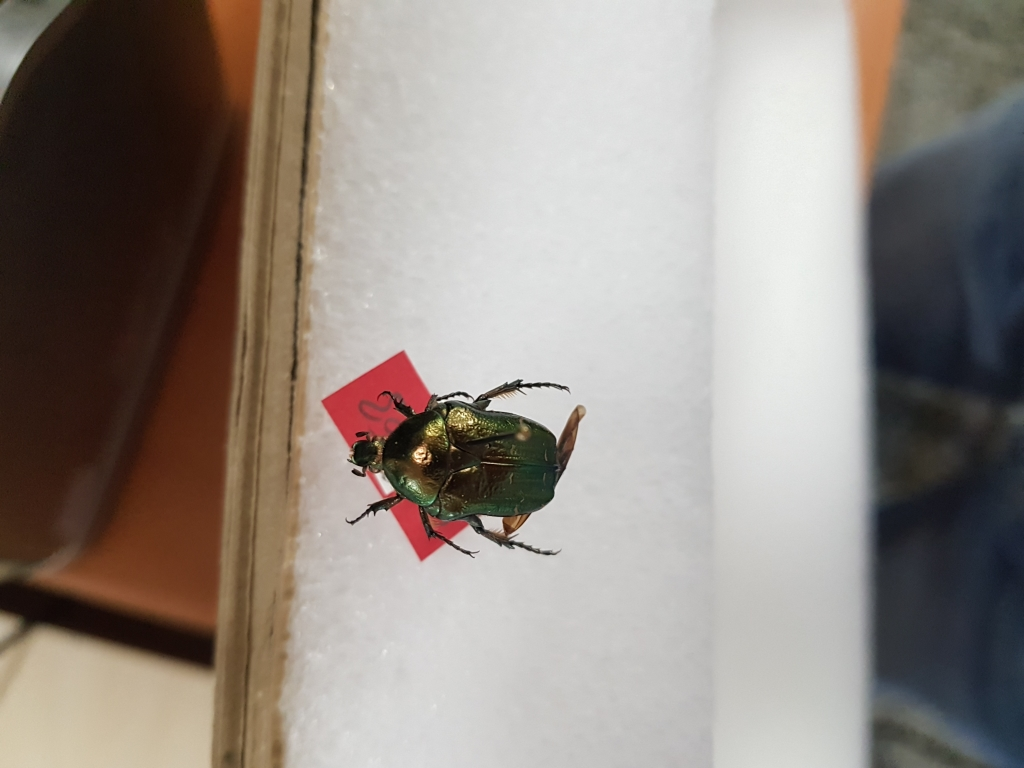Cetonia_kemali: (343, 377, 589, 567)
